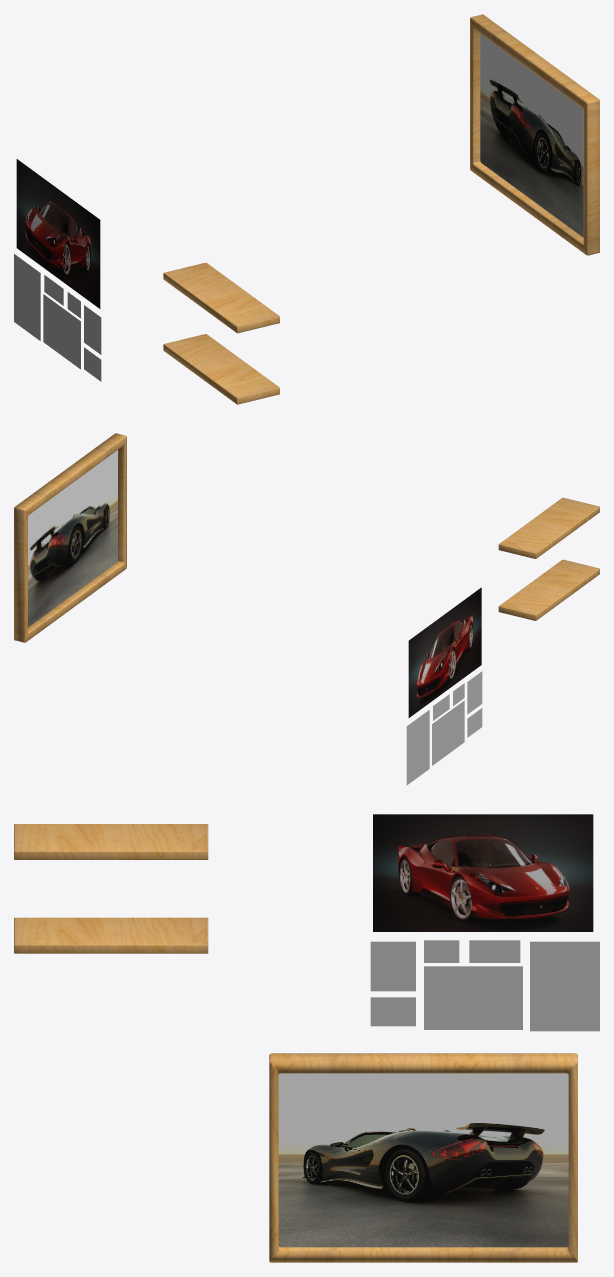
The model's file is m_picture.FBX.
3 views of the same model, one above another, from view 1: azimuth 30°, elevation 25°; view 2: azimuth 150°, elevation 25°; view 3: azimuth 270°, elevation 25° (orthographic). The views are drawn at different scales.
Parts seen in each view (by area): view 1: pictures_car, frame_1, picture_car2, plate_2, plate_1, picture3, picture5, picture6; view 2: pictures_car, frame_1, picture_car2, plate_1, plate_2, picture3, picture5, picture6; view 3: pictures_car, picture_car2, frame_1, picture5 (×2), plate_1, picture3 (×2), plate_2, picture6, picture2.
Boxes of the visible parts, x1,y1,x2,y2 form: pictures_car: [480, 33, 583, 237]; frame_1: [470, 14, 599, 255]; picture_car2: [16, 159, 100, 308]; plate_2: [163, 262, 279, 333]; plate_1: [163, 334, 279, 404]; picture3: [14, 254, 40, 340]; picture5: [43, 294, 80, 369]; picture6: [84, 305, 101, 354]; pictures_car: [28, 450, 117, 627]; frame_1: [14, 433, 126, 642]; picture_car2: [408, 587, 481, 717]; plate_1: [498, 559, 599, 620]; plate_2: [498, 497, 599, 558]; picture3: [406, 710, 429, 785]; picture5: [432, 700, 464, 765]; picture6: [467, 671, 482, 714]; pictures_car: [278, 1073, 568, 1247]; picture_car2: [373, 814, 593, 931]; frame_1: [269, 1053, 577, 1262]; picture5 (×2): [370, 966, 522, 1029]; plate_1: [14, 917, 208, 953]; picture3 (×2): [424, 940, 599, 1031]; plate_2: [14, 824, 208, 859]; picture6: [370, 941, 415, 991]; picture2: [469, 940, 520, 962].
Bounding box in the file's own units: 297 × 124 × 249.
